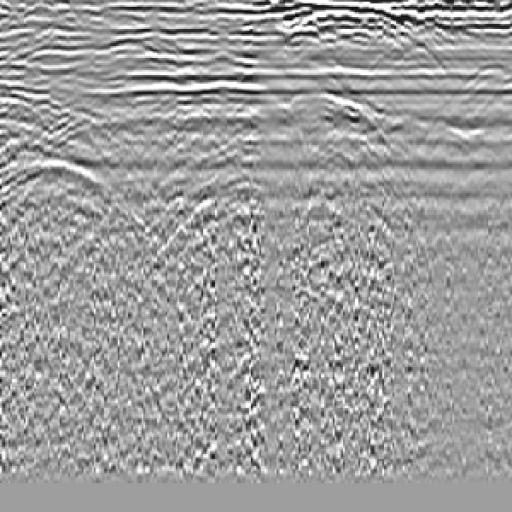metalic: (126, 37, 314, 292)
